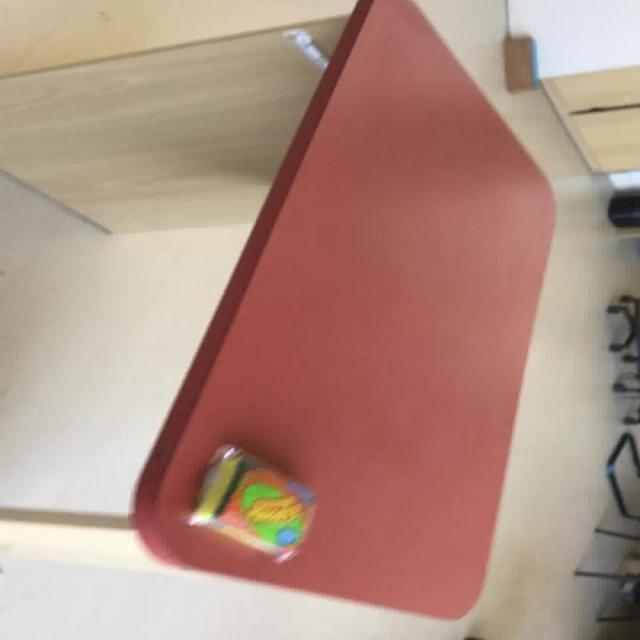Sponge: (127, 0, 557, 620), (186, 443, 316, 564)
